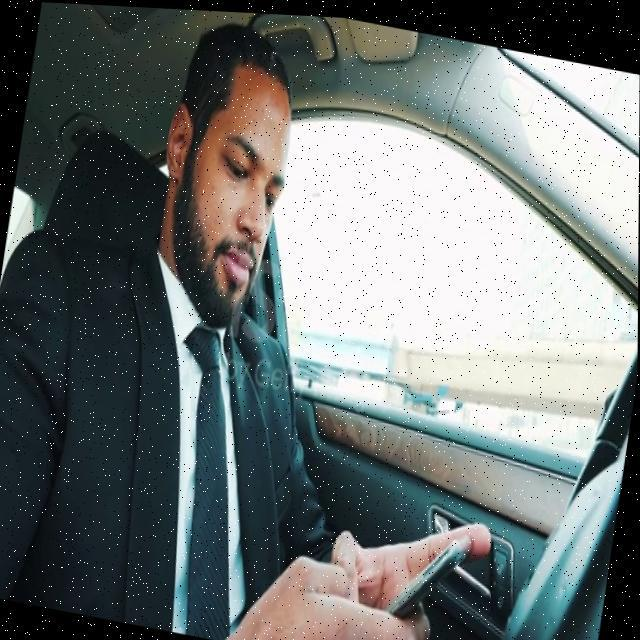PhoneCall: (382, 521, 472, 639)
